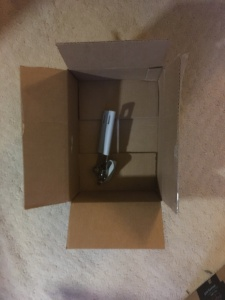innerbox: (66, 68, 161, 203)
outerbox: (21, 43, 178, 250)
product: (96, 111, 115, 181)
